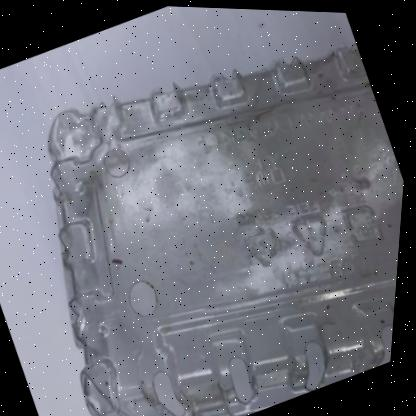Plastic: (50, 41, 406, 416)
